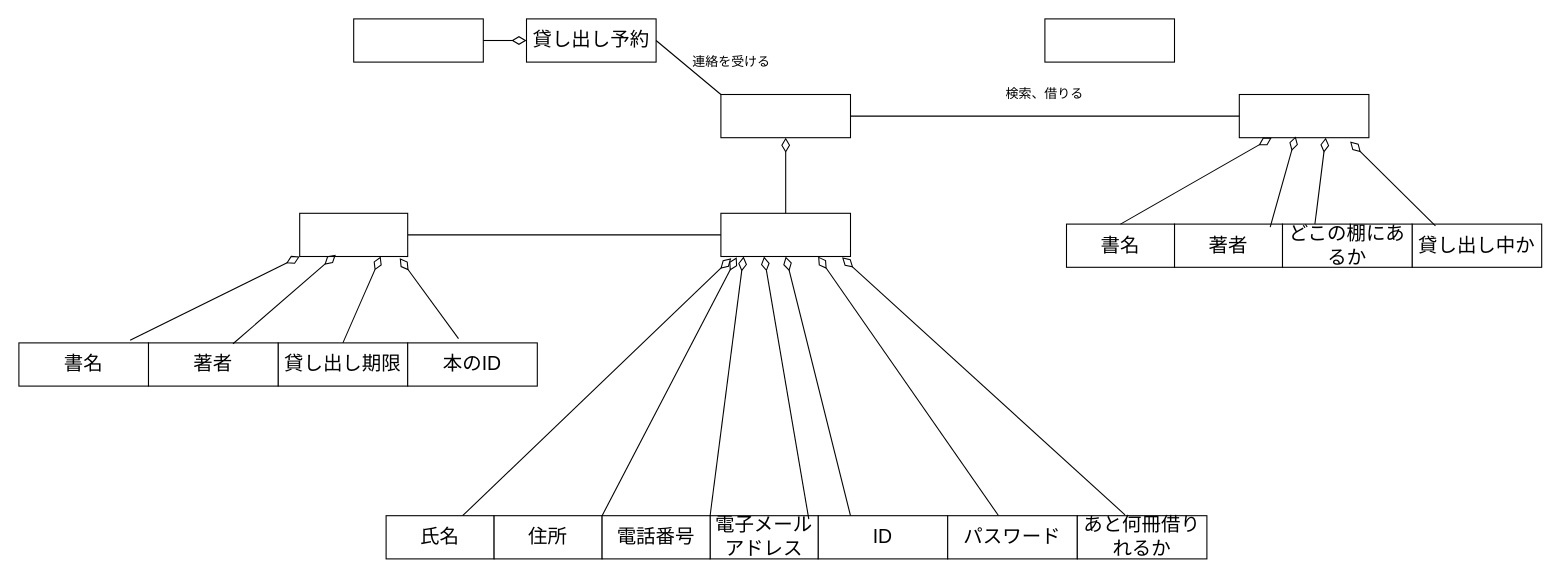
The diagram is 1561 pixels wide and 579 high, and some of its shapes have lost their labels. The shapes that lost their labels are listed below. From the top down, each one's centre as x and y in pixels, then its label:
the point at 418,40: 必要事項
the point at 1109,40: 図書館
the point at 785,115: 利用者
the point at 1303,115: 図書
the point at 353,234: 借りている本
the point at 785,234: 図書カード
